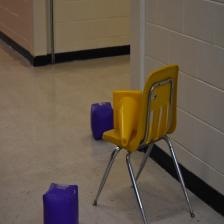cone: (113, 91, 142, 146)
cube: (42, 182, 78, 224), (90, 101, 114, 140)
